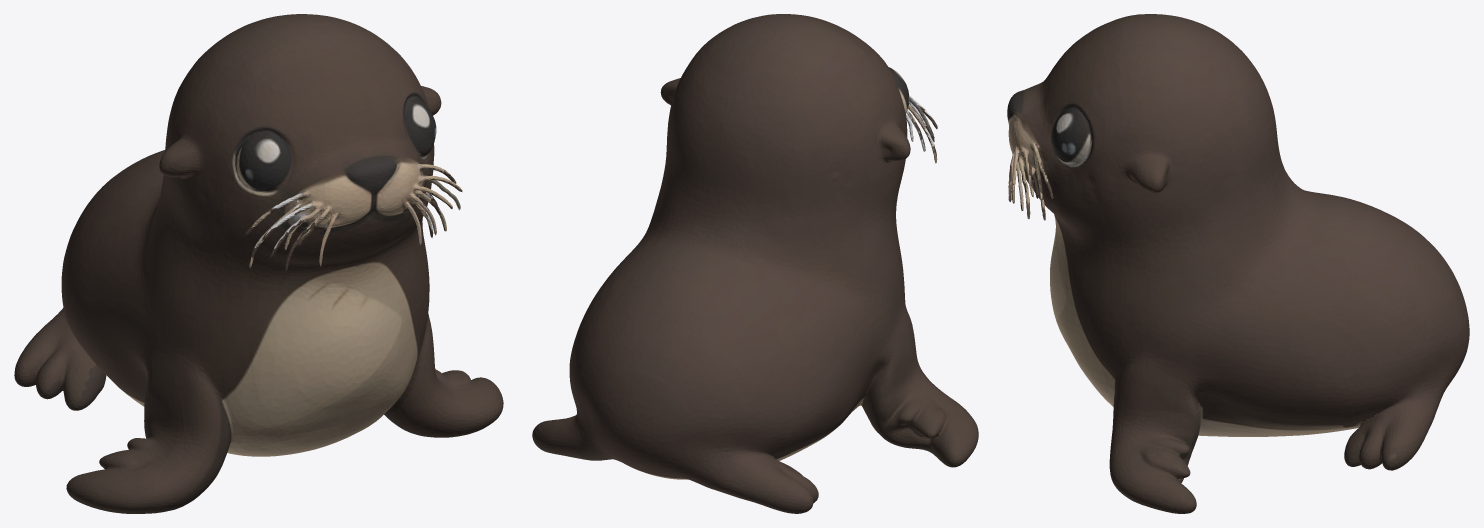
The model's file is reggie.glb.
3 views of the same model, side by side, from view 1: azimuth 30°, elevation 25°; view 2: azimuth 150°, elevation 25°; view 3: azimuth 270°, elevation 25° (orthographic). The views are drawn at different scales.
Parts seen in each view (by area): view 1: tmp52xf7_c3.ply; view 2: tmp52xf7_c3.ply; view 3: tmp52xf7_c3.ply.
Part boxes in pixels (<box>): tmp52xf7_c3.ply: <box>14,14,503,513</box>; tmp52xf7_c3.ply: <box>532,14,978,513</box>; tmp52xf7_c3.ply: <box>1007,14,1469,513</box>.
Bounding box in the file's own units: 1.94 × 1.92 × 2.
1 material, 1 textured.
